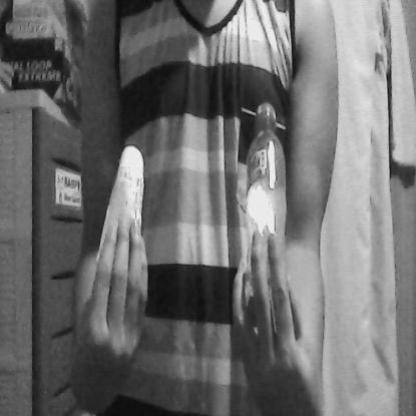Plastic Bottle: (239, 81, 292, 303)
